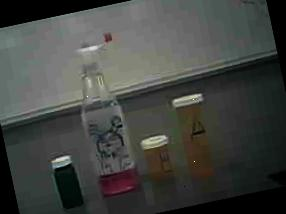Bottle A: (161, 85, 232, 190)
Bottle B: (134, 128, 180, 189)
Bottle C: (44, 146, 91, 212)
hazard: (52, 21, 149, 205)
